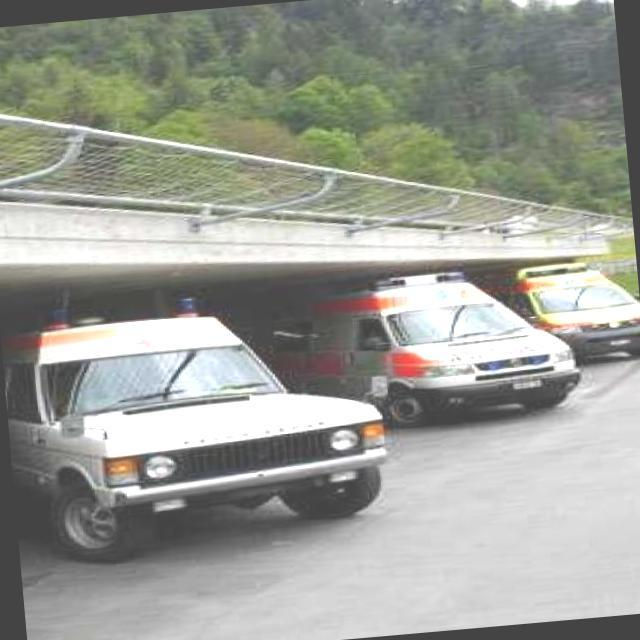emergency-vehicle: (375, 251, 640, 427)
